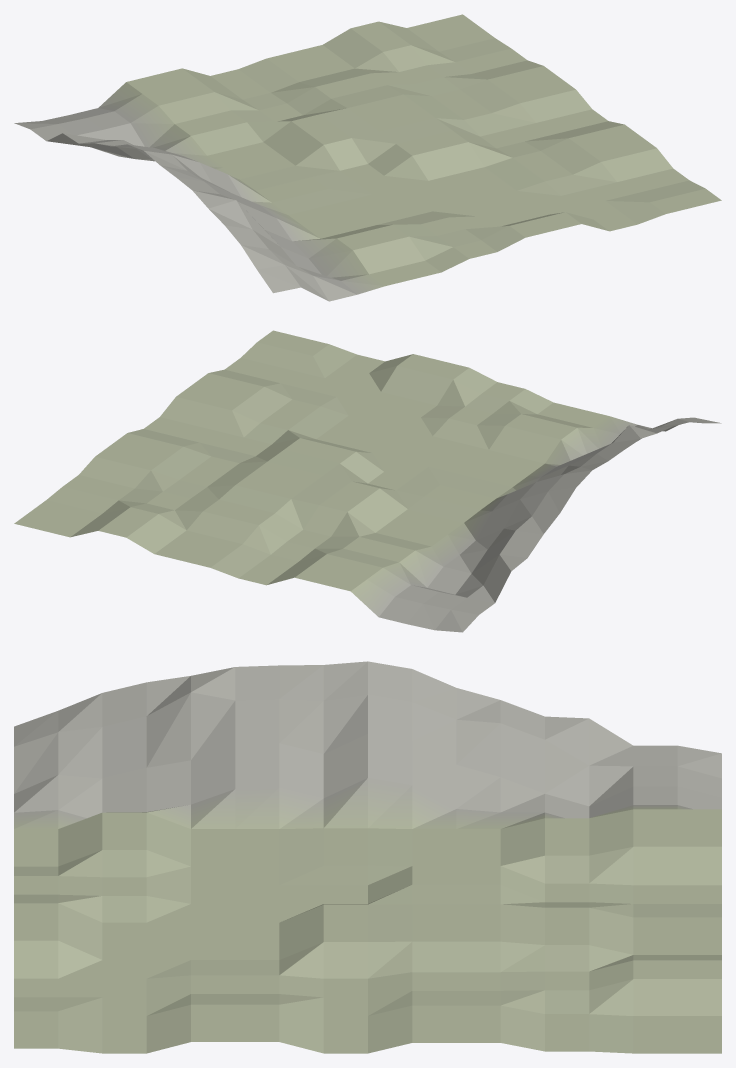
3 renders of one model, top to bottom at view 1: azimuth 30°, elevation 25°; view 2: azimuth 150°, elevation 25°; view 3: azimuth 270°, elevation 25°, orthographic. The views are drawn at different scales.
Bounding box in the file's own units: 32 × 5.37 × 32.
